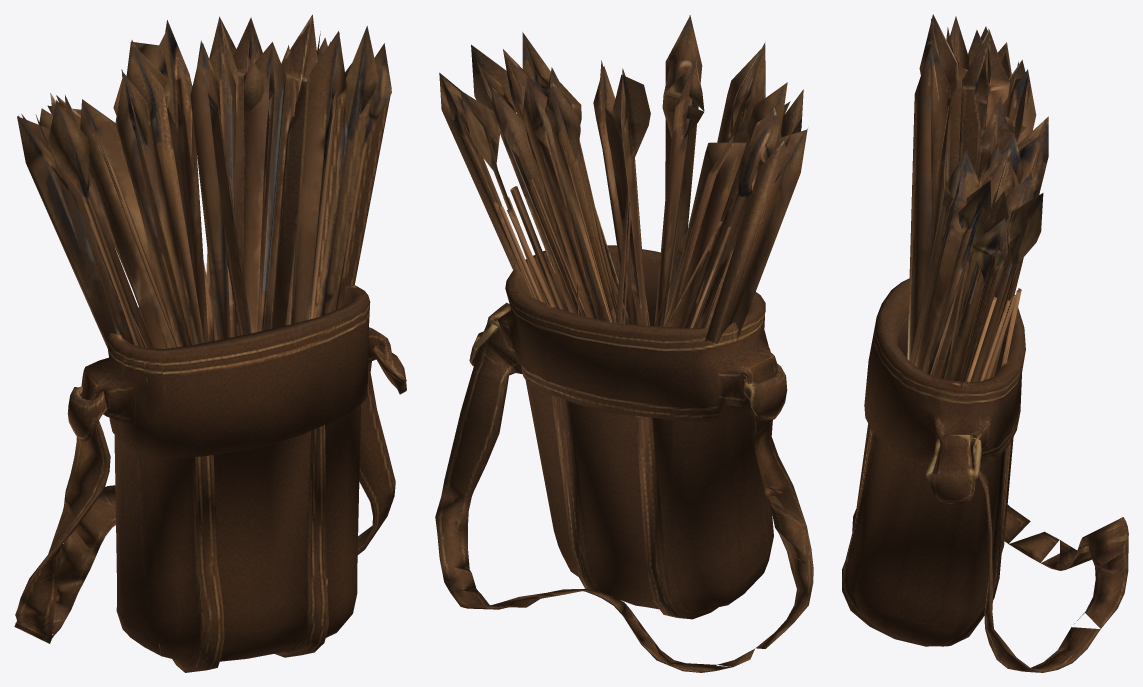
File: quiver.glb
The picture shows the model from 3 angles, left to right: view 1: azimuth 30°, elevation 25°; view 2: azimuth 150°, elevation 25°; view 3: azimuth 270°, elevation 25°; orthographic projection. The views are drawn at different scales.
Size of the model in its own units: 0.6074 by 0.9517 by 0.4341.
1 material, 1 textured.
